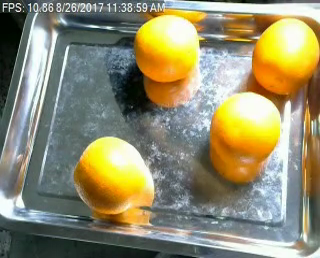Orange: (73, 136, 153, 212), (210, 91, 282, 167), (253, 16, 319, 97), (134, 13, 200, 82)
